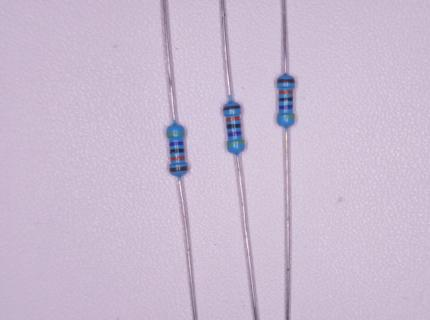Black band: (227, 123, 241, 129), (170, 148, 184, 154), (279, 97, 293, 102)
Brown band: (223, 106, 241, 112), (170, 166, 188, 172), (277, 79, 296, 83)
Orange band: (170, 156, 185, 162), (225, 117, 241, 122), (278, 90, 293, 95)
Violet band: (279, 104, 293, 110), (228, 131, 241, 137), (170, 141, 184, 146)
Yellow band: (226, 140, 244, 146), (277, 114, 295, 118), (167, 133, 184, 137)
